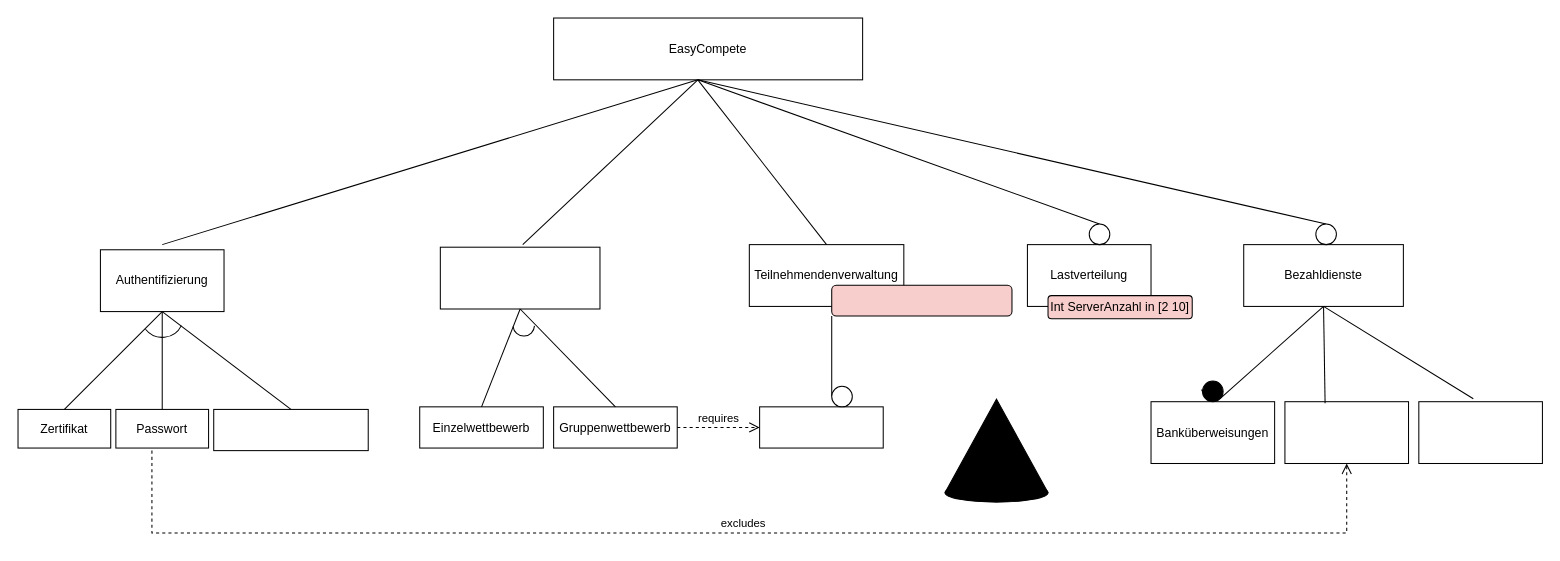
The diagram is 1560 pixels wide and 561 high, and some of its shapes have lost their labels. Each missing label, with the centre of its shape:
"Bezahlung per Kryptowährung" goes at (1480,432).
"Int maxTeilnehmener in [10 10000]" goes at (921,300).
"Kreditkarte" goes at (1346,432).
"Teamverwaltung" goes at (821,427).
"Wettbewerbsmodellierung" goes at (519,277).
"Zweifaktorauthentifizierung" goes at (290,429).
